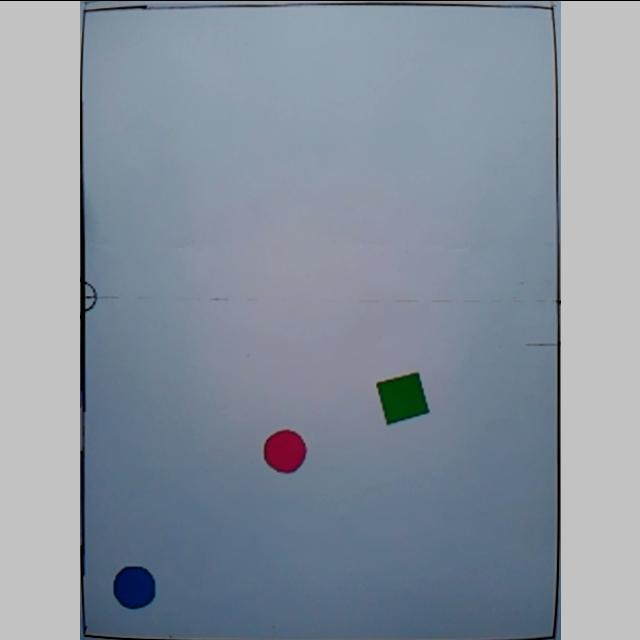blueCircle: (110, 561, 156, 609)
greenSquare: (374, 368, 430, 426)
pinkCircle: (257, 428, 307, 472)
